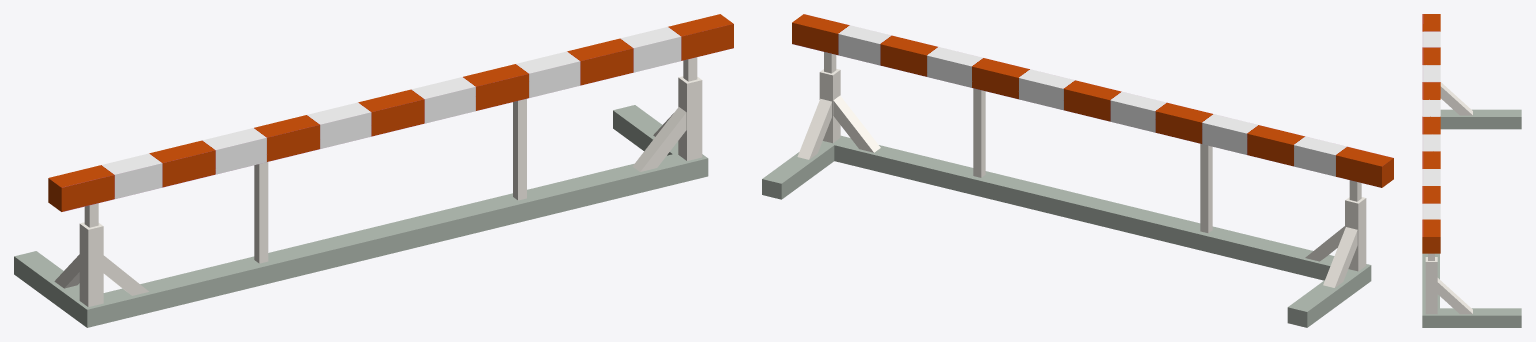
Rendered from Steeplechase_woman_water.FBX.
The picture shows the model from 3 angles, left to right: view 1: azimuth 30°, elevation 25°; view 2: azimuth 150°, elevation 25°; view 3: azimuth 270°, elevation 25°; orthographic projection. The views are drawn at different scales.
Parts seen in each view (by area): view 1: Steeplechase_waterwoman_water; view 2: Steeplechase_waterwoman_water; view 3: Steeplechase_waterwoman_water.
Part boxes in pixels (x1,y1,x2,y2): Steeplechase_waterwoman_water: [14, 14, 733, 327]; Steeplechase_waterwoman_water: [762, 14, 1393, 327]; Steeplechase_waterwoman_water: [1422, 14, 1521, 327].
Size of the model in its own units: 36.6 by 7.73 by 6.89.
